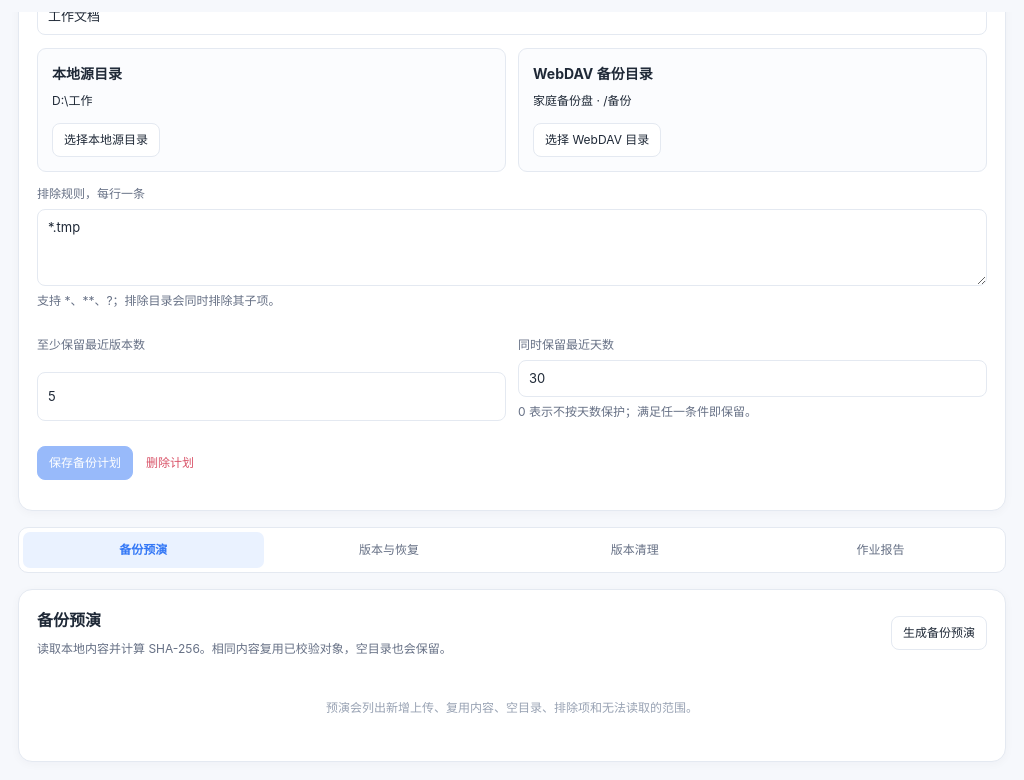
Test: blocks an expired backup preview and guides regeneration
The width and height of the screenshot is (1024, 780).
(page scrolled)
Click the button "生成备份预演" at x=939, y=633, box [891,616,987,650]
(page scrolled)
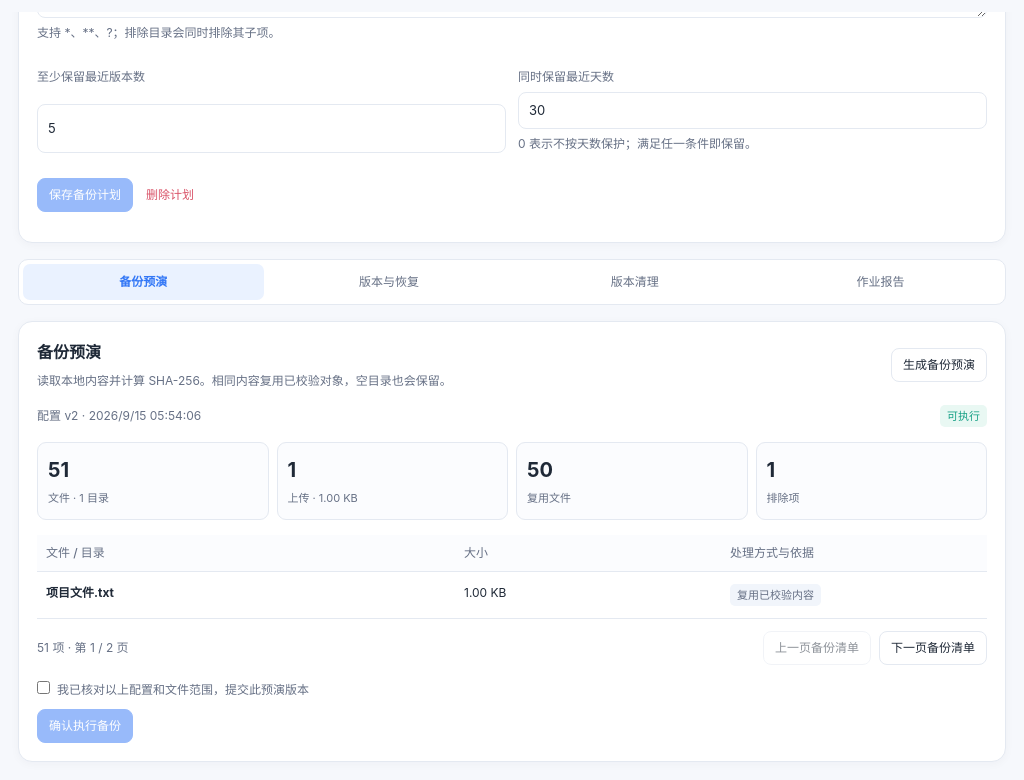
Click the checkbox named "确认备份预演" at x=44, y=688, box [37,681,50,694]
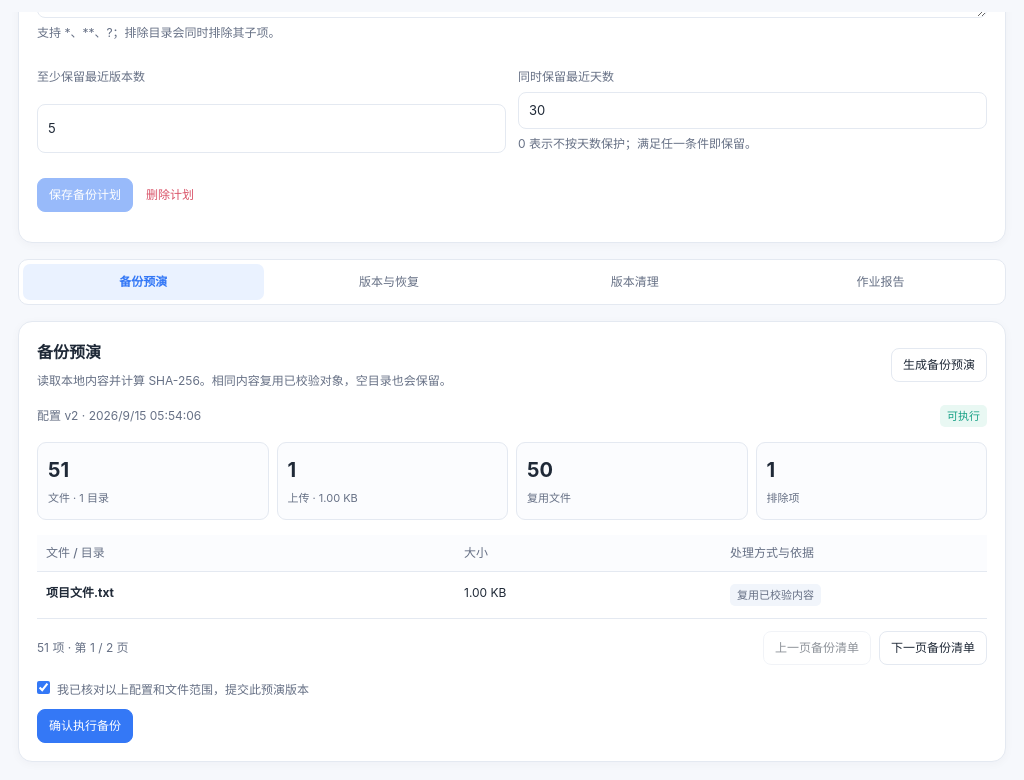
Click the button "确认执行备份" at x=85, y=726, box [37,709,133,743]
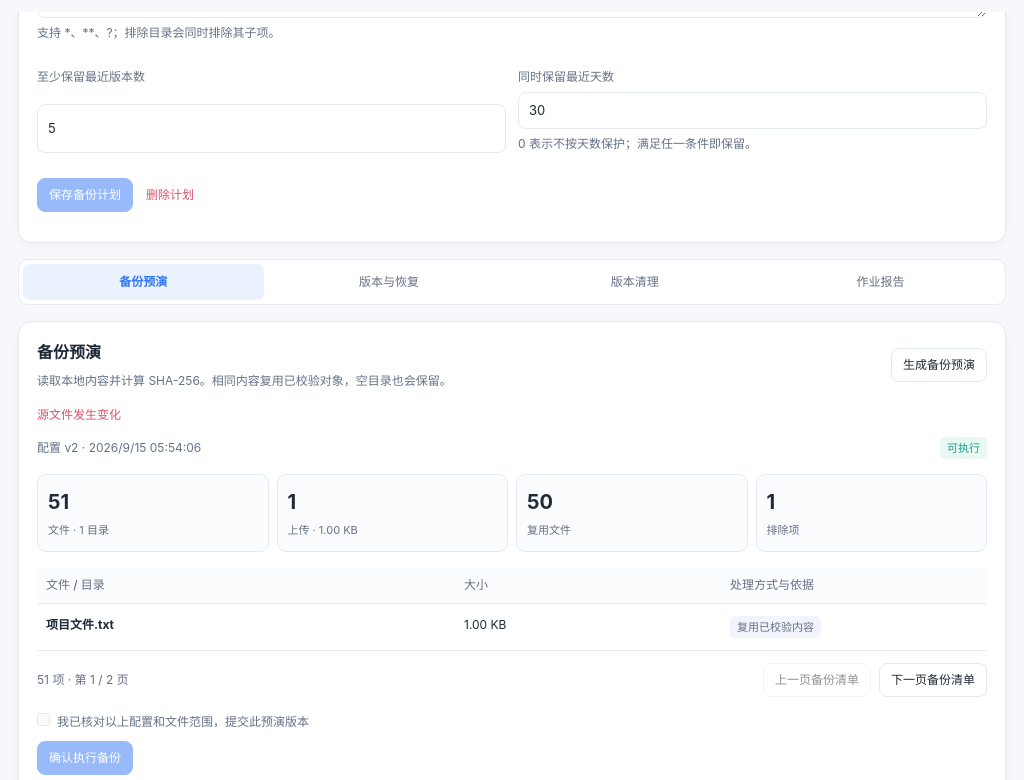
Expected: the button "生成备份预演" is enabled, [891,348,987,382]
Result: the button "确认执行备份" is disabled at [37,741,133,775]
